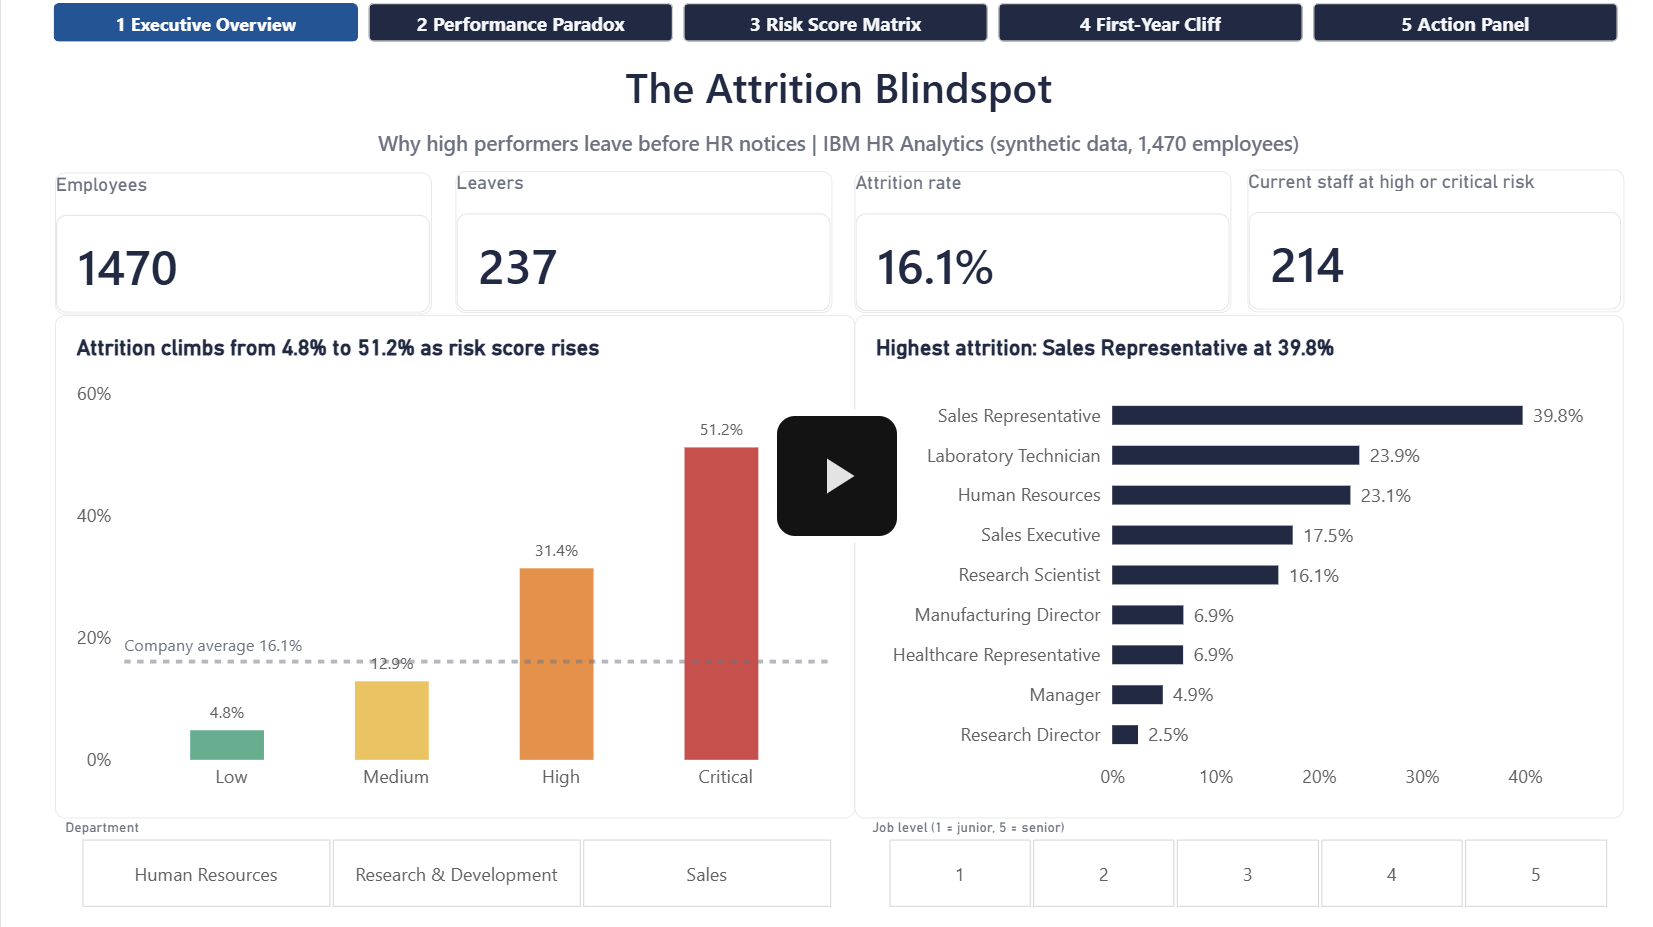

What the dashboard file says about the page in this screenshot:
{"tool":"powerbi","page":{"name":"1 Executive Overview","canvas":[1280,720],"ordinal":1},"visuals":[{"type":"textbox","box":[41.8,45.3,1214.5,51.1],"z":0},{"type":"textbox","box":[41.8,100,1214.5,31.4],"z":1000},{"type":"cardVisual","title":"Employees","fields":{"Data":["select","_Measures.Headcount Label"]},"box":[41.8,133.7,292,110],"z":2000},{"type":"cardVisual","title":"Leavers","fields":{"Data":["select","_Measures.Leavers"]},"box":[352.2,132.5,292,110],"z":3000},{"type":"cardVisual","title":"Attrition rate","fields":{"Data":["select","_Measures.Attrition Rate"]},"box":[661.3,132.5,292,110],"z":4000},{"type":"cardVisual","title":"Current staff at high or critical risk","fields":{"Data":["select","_Measures.Current Staff at High or Critical Risk"]},"box":[965.8,131.3,291.7,110.4],"z":5000},{"type":"clusteredColumnChart","fields":{"Category":["employees.Risk Band"],"Y":["_Measures.Attrition Rate"]},"box":[41.8,244.1,620,390],"z":6000},{"type":"clusteredBarChart","fields":{"Category":["employees.job_role"],"Y":["_Measures.Attrition Rate"]},"box":[661.3,244.1,596,390],"z":7000},{"type":"slicer","fields":{"Values":["employees.department"]},"box":[41.8,634.6,620,70],"z":8000},{"type":"slicer","fields":{"Values":["employees.job_level"]},"box":[667.1,634.6,596,70],"z":9000},{"type":"pageNavigator","box":[41,2,1214.5,30],"z":9001}]}

Visuals, with their boxes in screenshot pixels (x1, y1, x2, y2), scaled from the page's 1280x720 canvas onto the 1653x927 screenshot:
textbox: x1=54, y1=58, x2=1622, y2=124
textbox: x1=54, y1=129, x2=1622, y2=169
"Employees" cardVisual: x1=54, y1=172, x2=431, y2=314
"Leavers" cardVisual: x1=455, y1=171, x2=832, y2=312
"Attrition rate" cardVisual: x1=854, y1=171, x2=1231, y2=312
"Current staff at high or critical risk" cardVisual: x1=1247, y1=169, x2=1624, y2=311
clusteredColumnChart - employees.Risk Band x _Measures.Attrition Rate: x1=54, y1=314, x2=855, y2=816
clusteredBarChart - employees.job_role x _Measures.Attrition Rate: x1=854, y1=314, x2=1624, y2=816
slicer - employees.department: x1=54, y1=817, x2=855, y2=907
slicer - employees.job_level: x1=861, y1=817, x2=1631, y2=907
pageNavigator: x1=53, y1=3, x2=1621, y2=41
